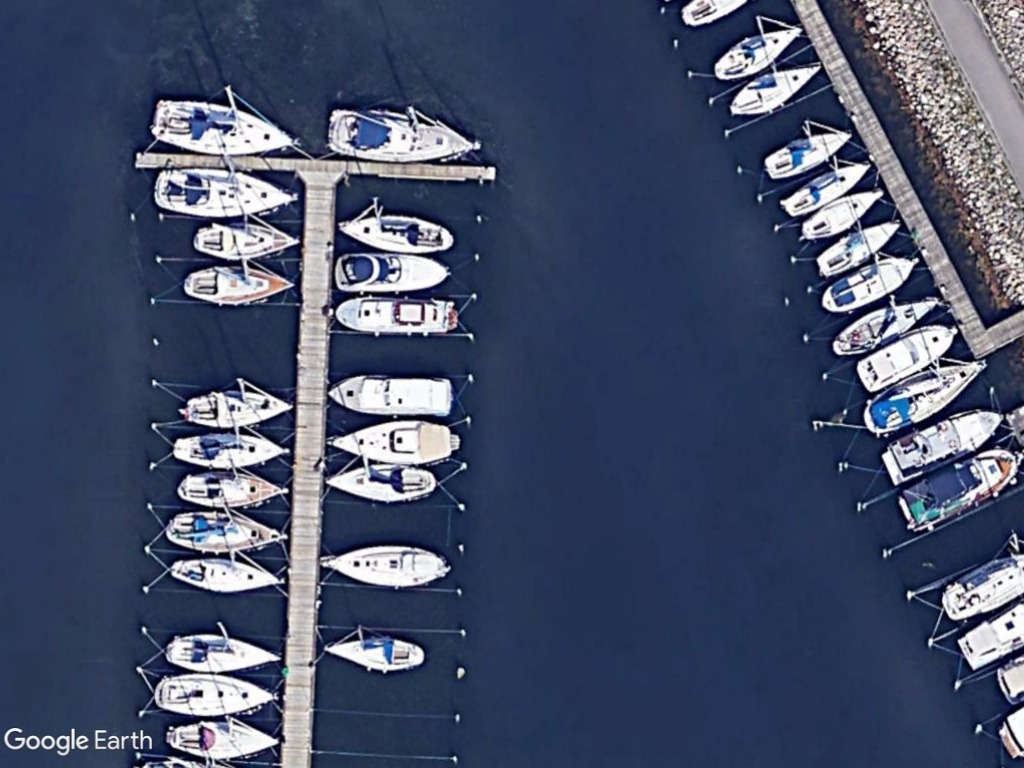boat: (890, 438, 1024, 542), (874, 397, 1007, 483), (862, 350, 990, 439), (146, 91, 305, 161), (320, 106, 490, 171), (825, 287, 942, 367), (851, 319, 965, 397), (150, 165, 301, 220), (319, 538, 458, 596), (814, 246, 924, 318), (319, 368, 458, 422), (159, 504, 294, 558), (706, 15, 809, 84), (322, 419, 470, 467), (328, 289, 471, 338), (336, 205, 462, 260), (147, 667, 279, 719), (724, 58, 826, 124), (158, 712, 285, 765), (777, 155, 874, 224), (812, 210, 903, 282), (160, 547, 286, 599), (313, 623, 432, 678), (328, 246, 458, 296), (154, 626, 286, 675), (167, 424, 294, 473), (176, 259, 299, 309), (797, 182, 890, 248), (320, 456, 441, 506), (188, 215, 302, 266), (760, 123, 854, 182), (175, 385, 294, 431), (172, 463, 294, 507)
